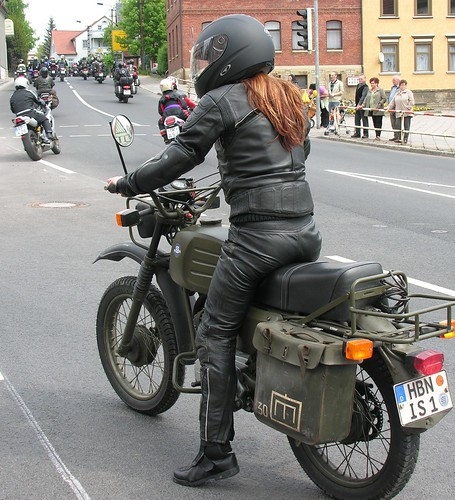helmet: (180, 12, 291, 92), (153, 73, 181, 94), (12, 68, 29, 92)
